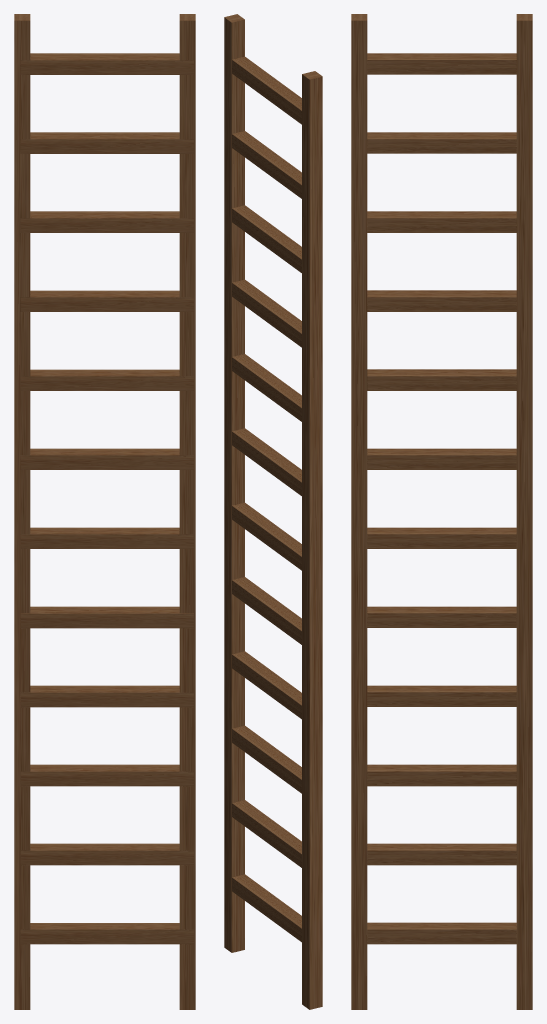
File: échelle.fbx
3 views of the same model, side by side, from view 1: azimuth 90°, elevation 25°; view 2: azimuth 210°, elevation 25°; view 3: azimuth 270°, elevation 25° (orthographic). The views are drawn at different scales.
Parts seen in each view (by area): view 1: Cube.073; view 2: Cube.073; view 3: Cube.073.
Part boxes in pixels (<box>): Cube.073: <box>14,14,195,1009</box>; Cube.073: <box>224,14,322,1009</box>; Cube.073: <box>351,14,532,1009</box>.
Size of the model in its own units: 5.6 by 375 by 62.45.
Materials: 1 (1 with a texture image).
